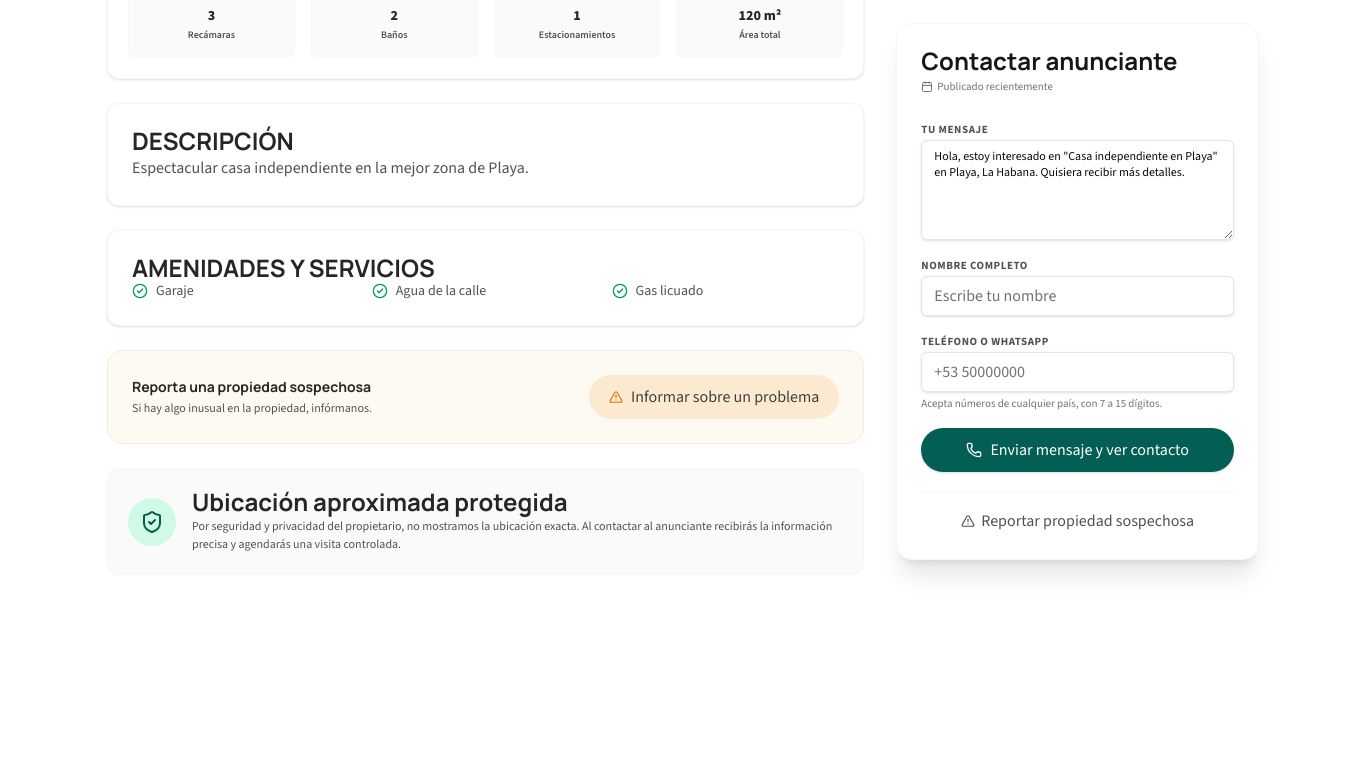
Test: DetailPage - Reportes y Visor › renueva Turnstile cuando falla la insercion de un reporte
(page scrolled)
Click the button "Reportar propiedad sospechosa" at (1078, 521), box left=961, top=509, right=1194, bottom=533
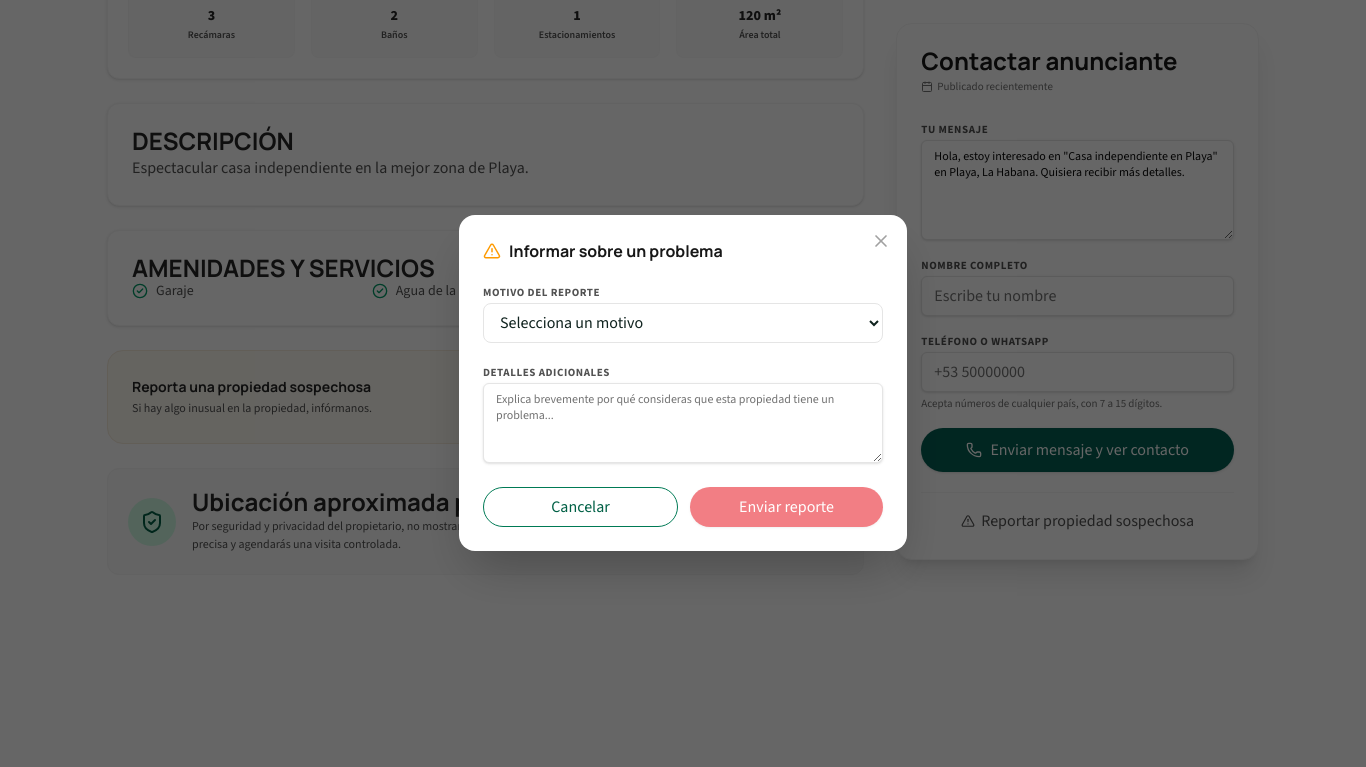
Select "Fraude o estafa" in the dropdown at (683, 323), box left=483, top=303, right=883, bottom=343
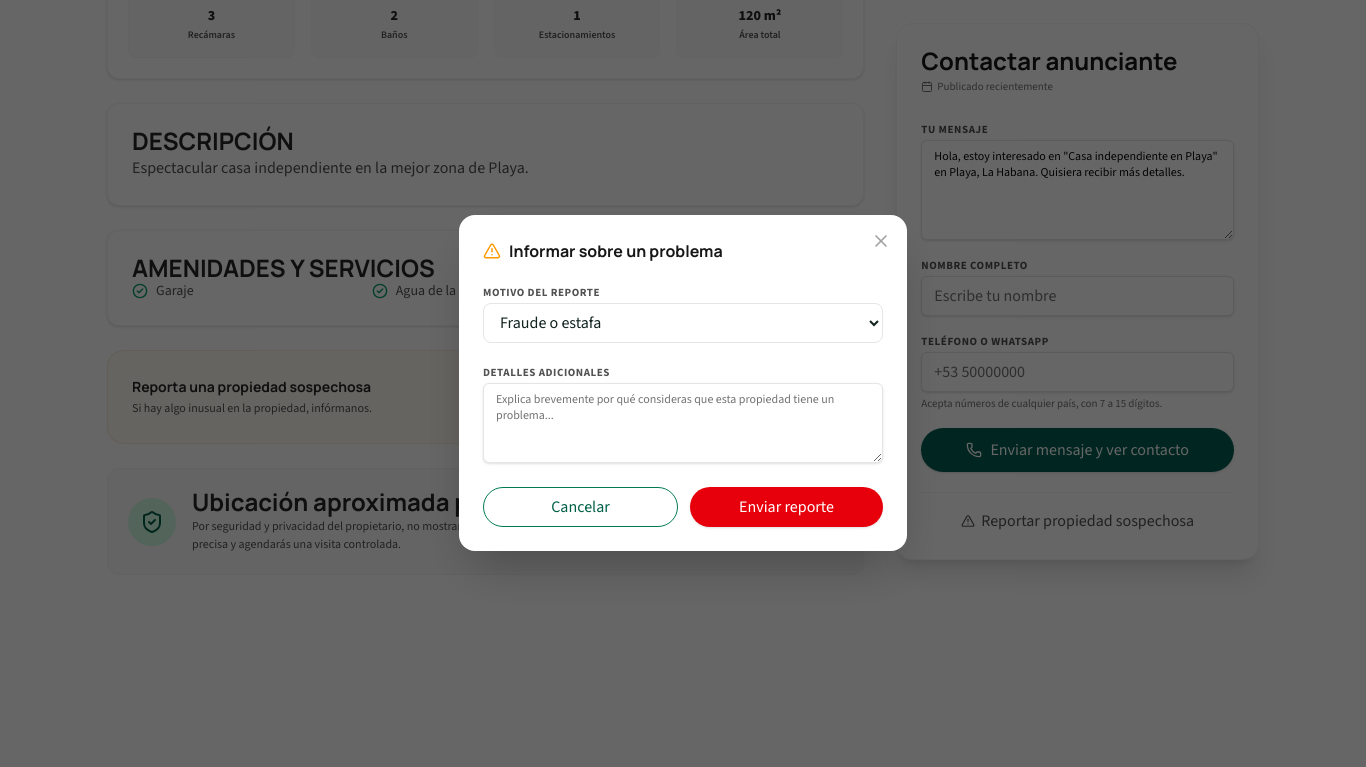
Replace the text in the text box with placeholder "Explica brevemente" with "Fallo de insercion controlado." at (683, 423), box left=483, top=383, right=883, bottom=463
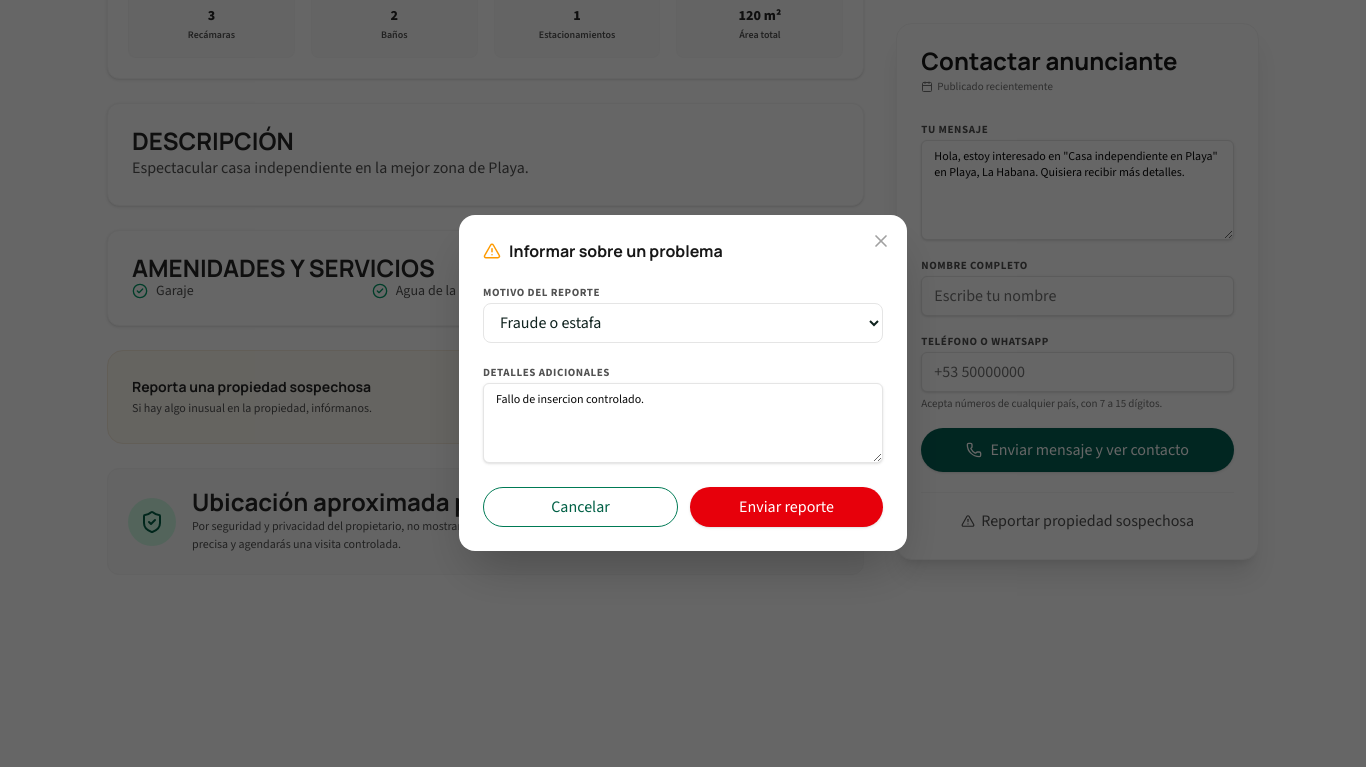
Click the button "Enviar reporte" at (786, 507), box left=690, top=487, right=883, bottom=527
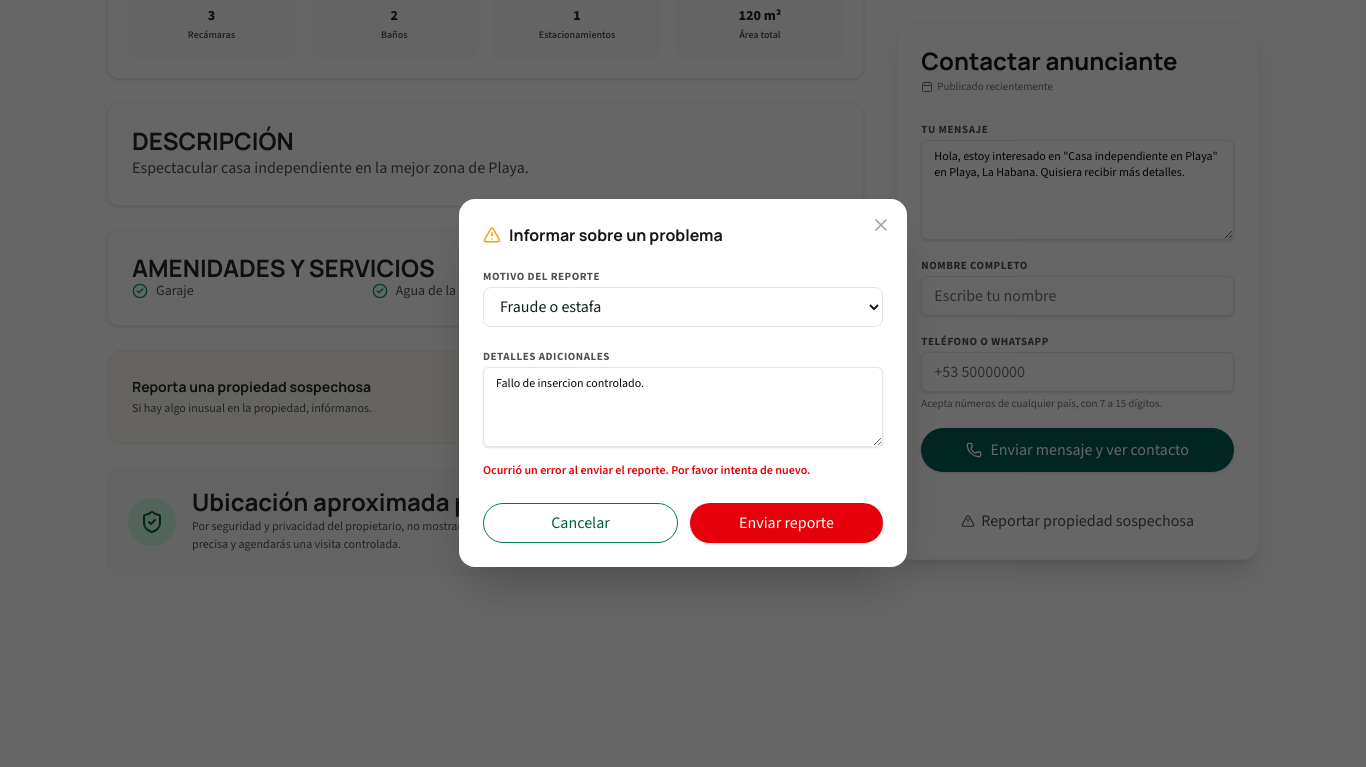
Result: the text "Ocurrió un error al enviar el reporte" is shown at left=483, top=462, right=810, bottom=479
